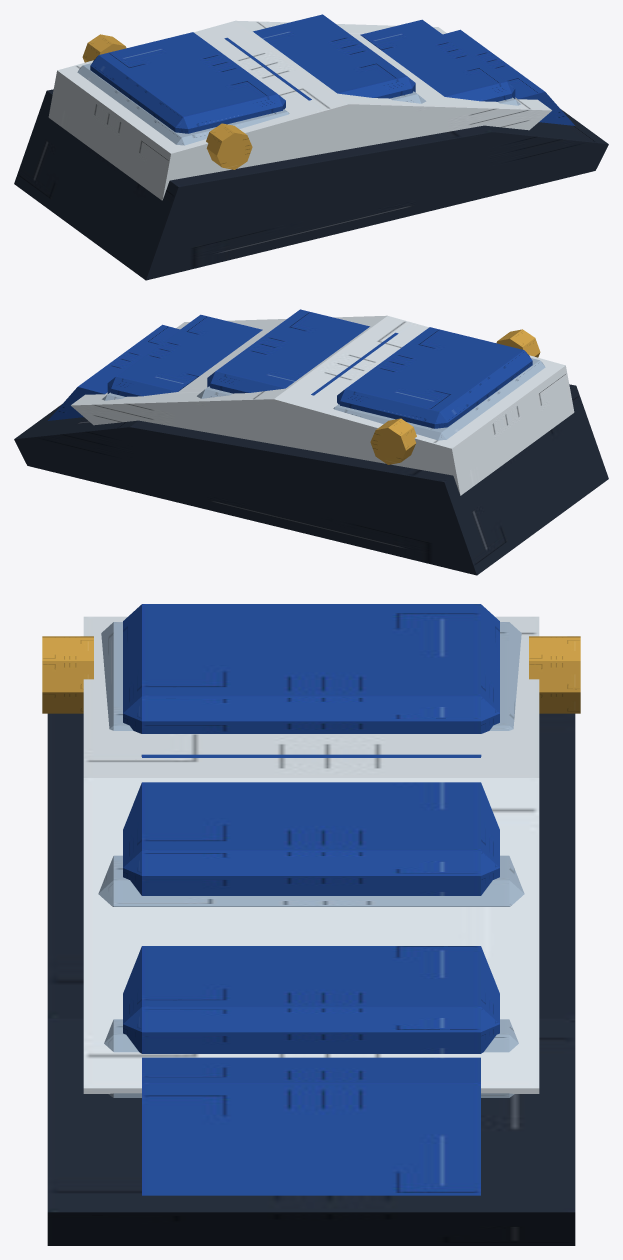
File: sabatons.glb
3 renders of one model, top to bottom at view 1: azimuth 30°, elevation 25°; view 2: azimuth 150°, elevation 25°; view 3: azimuth 270°, elevation 25°, orthographic. The views are drawn at different scales.
Visible parts, largest first — view 1: foot_L, foot_R; view 2: foot_L, foot_R; view 3: foot_L, foot_R.
Part boxes in pixels (x1,y1,x2,y2): foot_L: [14, 14, 608, 280]; foot_R: [206, 123, 252, 169]; foot_L: [14, 309, 608, 575]; foot_R: [496, 329, 540, 357]; foot_L: [47, 604, 580, 1245]; foot_R: [42, 636, 93, 713].
Size of the model in its own units: 0.312 by 0.0845 by 0.157.
Materials: 5 (5 with a texture image).
